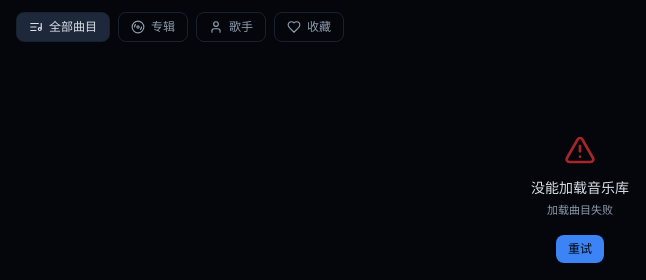
Scenario: Music page load failure › shows a retryable error state instead of an empty grid
This screenshot has width=646, height=280.
expect the message "没能加载音乐库 加载曲目失败 重试" is shown: met, box [531,134,629,262]
expect the text "没能加载音乐库" is shown: met, box [531,178,629,198]
Click the button "重试".
click(580, 248)  # box [556,234,604,262]
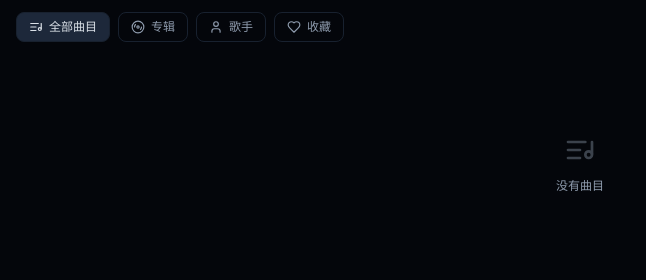
expect the text "没有曲目" is shown: met, box [556,178,604,194]
